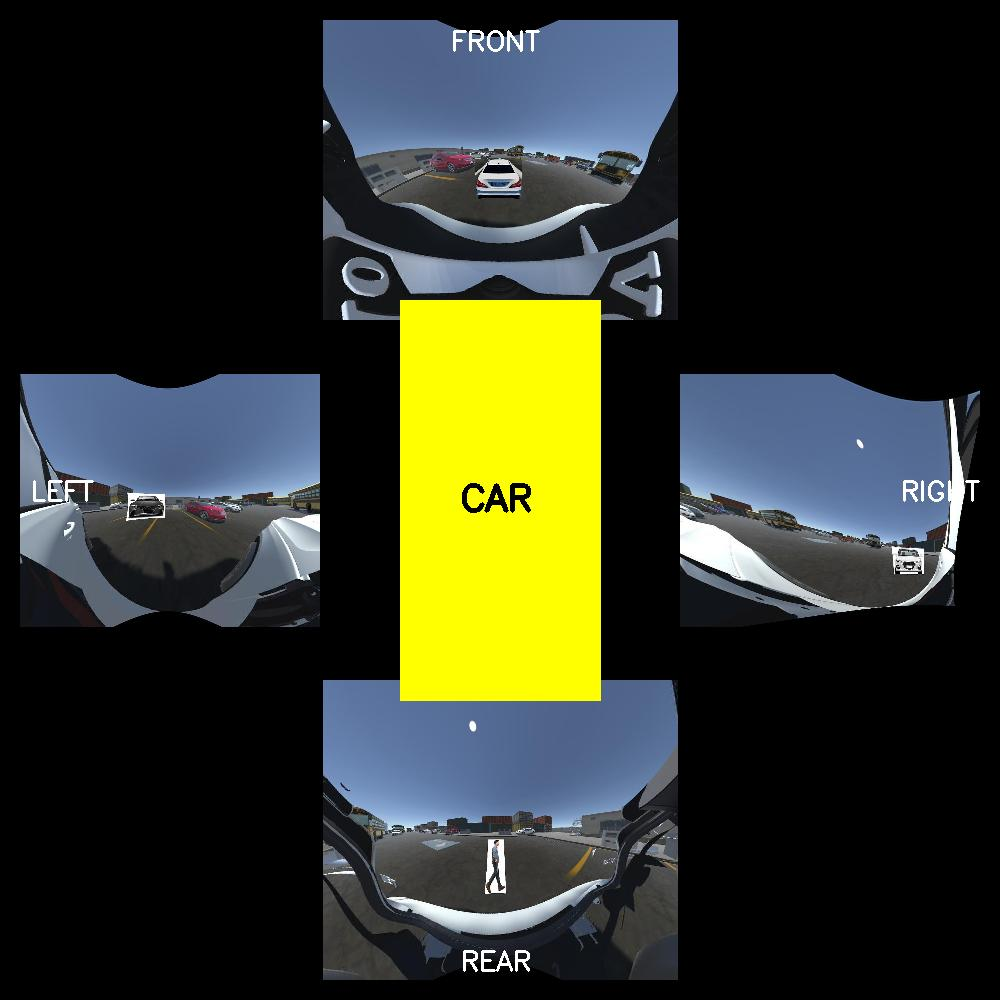Car: (474, 156, 524, 200), (126, 491, 165, 520), (891, 544, 924, 575)
objects: (486, 840, 505, 894)
